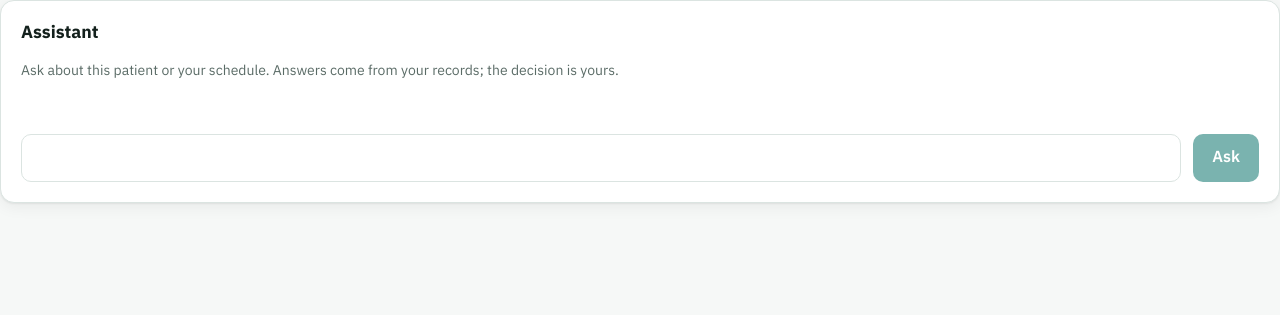
Scenario: shows the answer as it streams, for the selected patient
This screenshot has width=1280, height=315.
Type "What is she on?" into the field named "Ask" at (601, 158), box [21,134,1181,182]
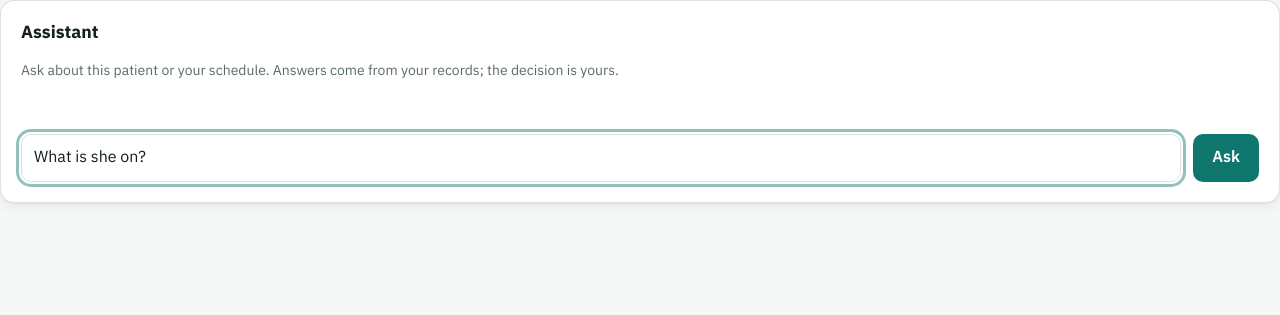
Click the button "Ask" at (1226, 158), box [1193,134,1259,182]
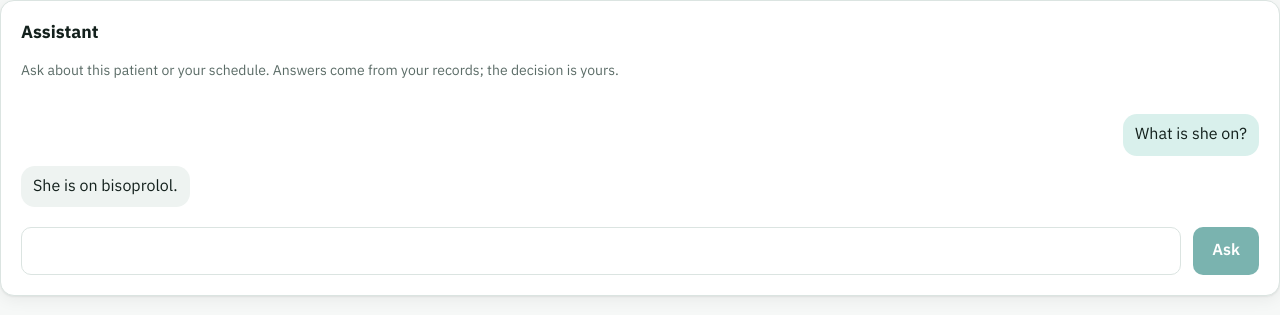
expect the text "She is on bisoprolol." is shown: met, box [33,174,178,199]
